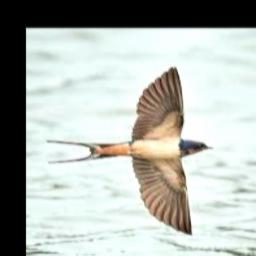Swallow: (47, 66, 214, 234)
